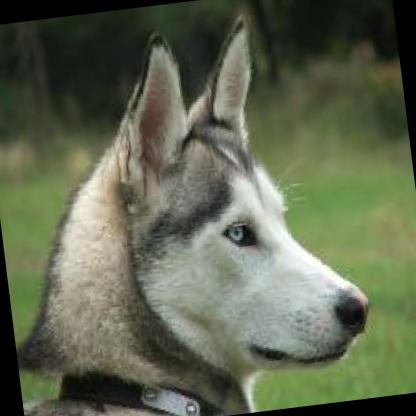Eskimo_dog: (0, 0, 382, 416)
